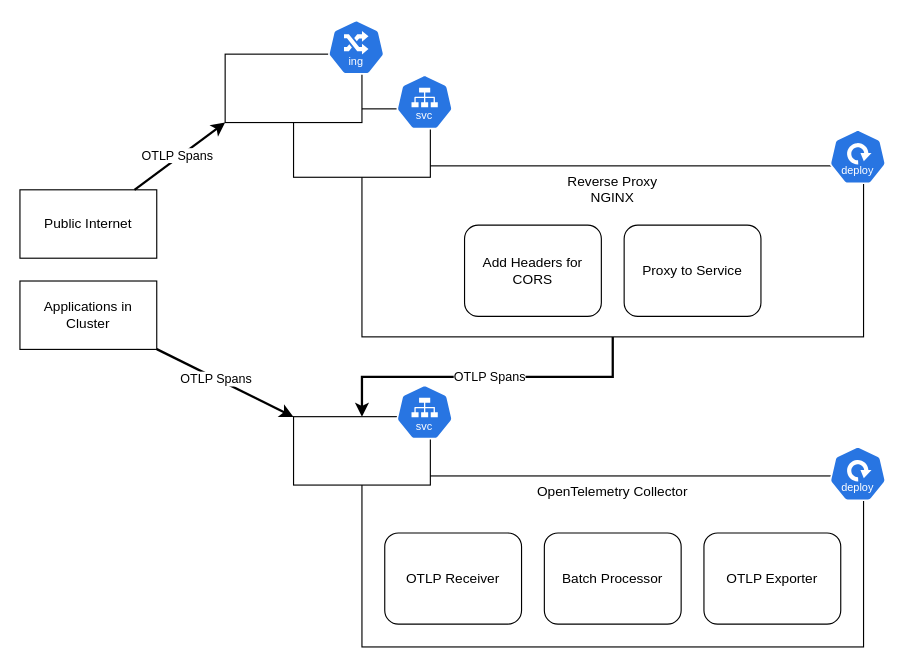
The diagram is 906 pixels wide and 667 high, and some of its shapes have lost their labels. The centre of each missing label's shape, as x and y in pixels:
"4317/gRPC 4318/HTTP" belongs at point (361, 450).
"8080/HTTP" belongs at point (361, 142).
"Public URL" belongs at point (293, 88).
